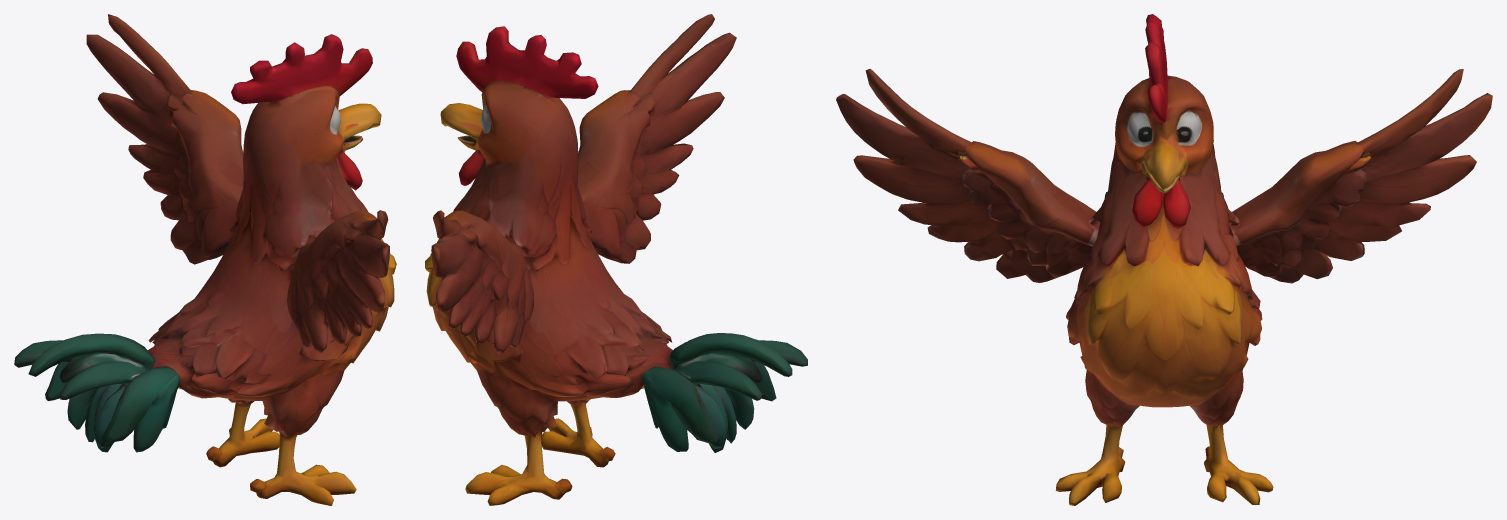
The model's file is esteban.glb.
The picture shows the model from 3 angles, left to right: view 1: azimuth 30°, elevation 25°; view 2: azimuth 150°, elevation 25°; view 3: azimuth 270°, elevation 25°; orthographic projection. The views are drawn at different scales.
Parts seen in each view (by area): view 1: tripo_node_9b6474f8-174e-4f2b-8ad7-b8519a42b321; view 2: tripo_node_9b6474f8-174e-4f2b-8ad7-b8519a42b321; view 3: tripo_node_9b6474f8-174e-4f2b-8ad7-b8519a42b321.
Boxes of the visible parts, box(x1,y1,x2,y2) form: tripo_node_9b6474f8-174e-4f2b-8ad7-b8519a42b321: box(14, 14, 396, 505); tripo_node_9b6474f8-174e-4f2b-8ad7-b8519a42b321: box(425, 14, 807, 505); tripo_node_9b6474f8-174e-4f2b-8ad7-b8519a42b321: box(836, 14, 1492, 505).
Size of the model in its own units: 0.6818 by 0.7979 by 1.
Materials: 1 (1 with a texture image).
